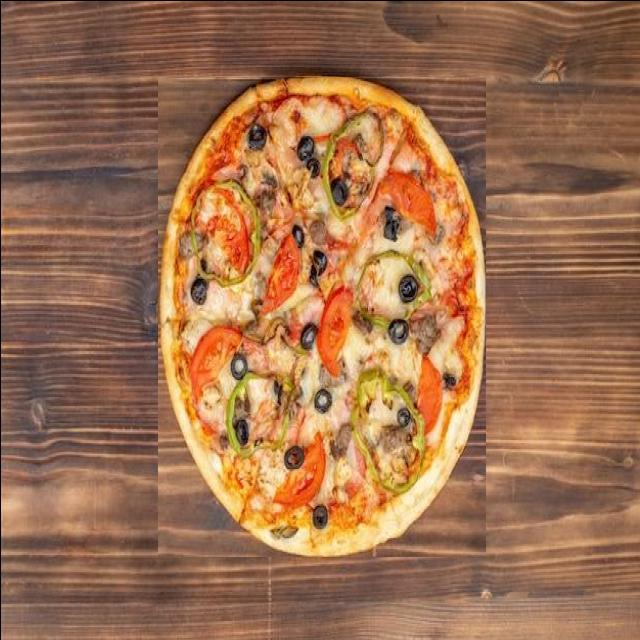olive: (316, 249, 334, 286), (243, 206, 260, 240), (234, 318, 254, 344), (376, 123, 394, 150), (395, 352, 412, 380), (435, 276, 452, 304), (226, 275, 243, 303), (339, 445, 358, 469), (310, 388, 328, 412), (296, 178, 312, 205), (326, 323, 342, 348), (330, 135, 346, 160), (315, 505, 331, 528), (395, 418, 406, 445), (232, 408, 246, 426), (339, 224, 349, 248), (324, 158, 336, 177)
pizza: (157, 76, 485, 556)
